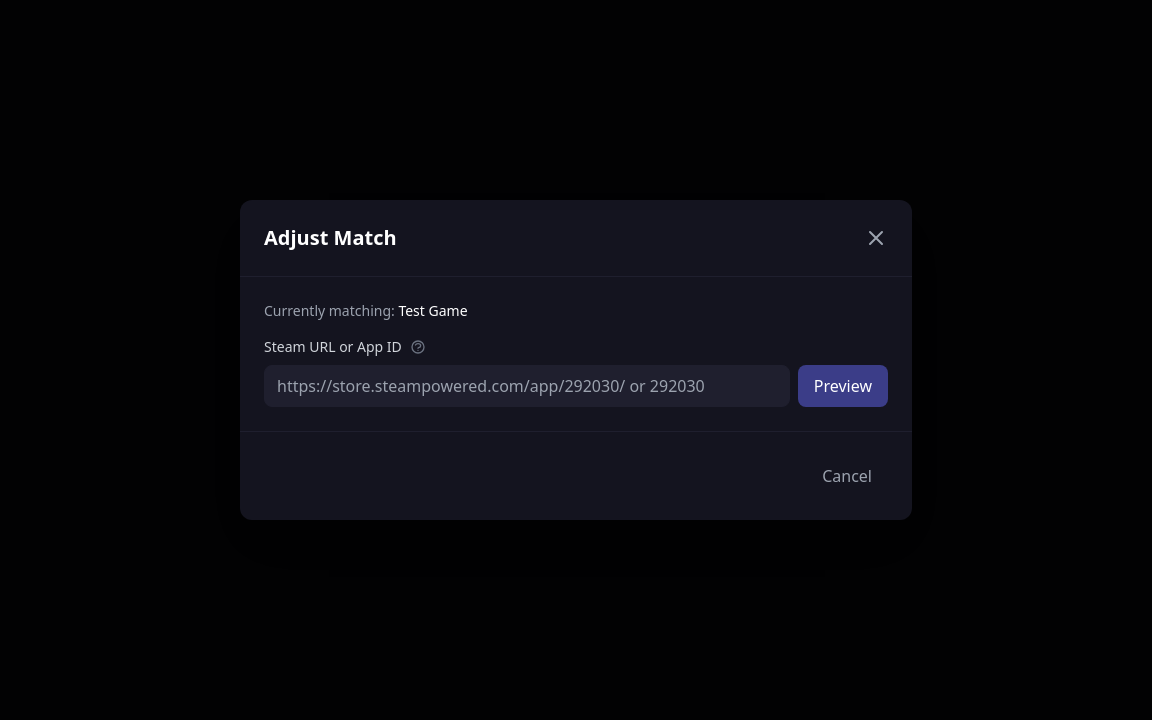
Test: AdjustMatchModal › toggles help section
Check: the text "How to find the correct game:" is not shown
Click help button
Click the button titled "Show help". click: [418, 347]
box: x1=410 y1=339 x2=426 y2=355
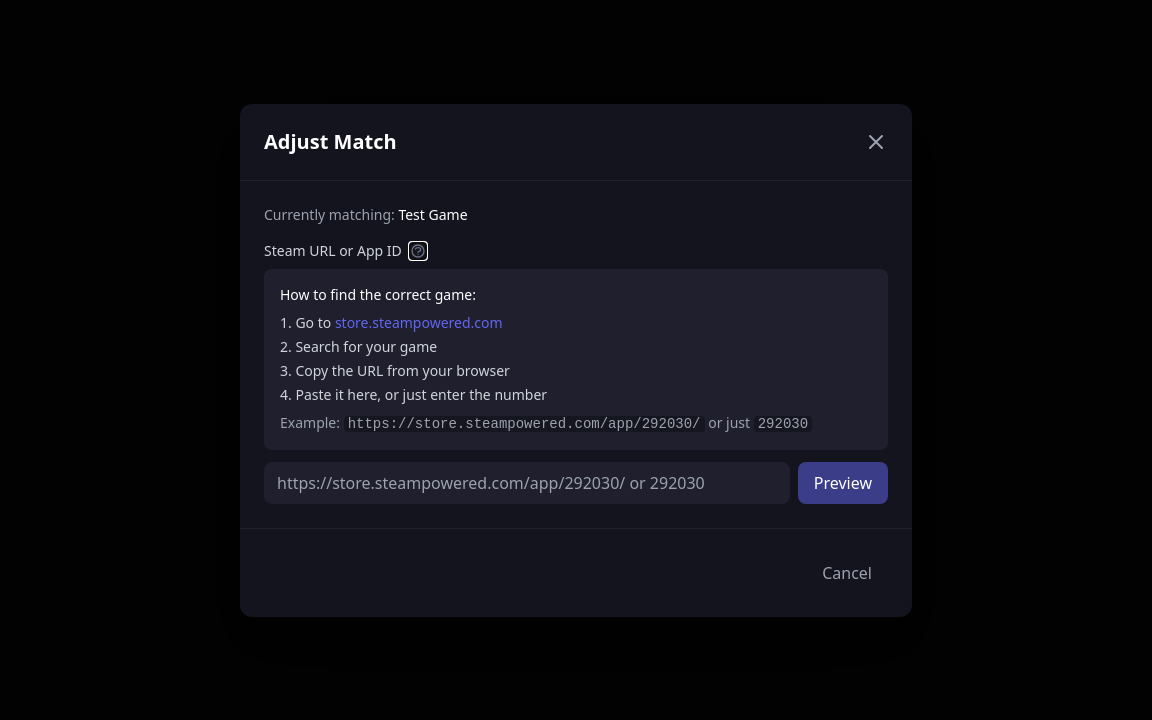
Check: the text "How to find the correct game:" is shown, box x1=280 y1=284 x2=476 y2=304
